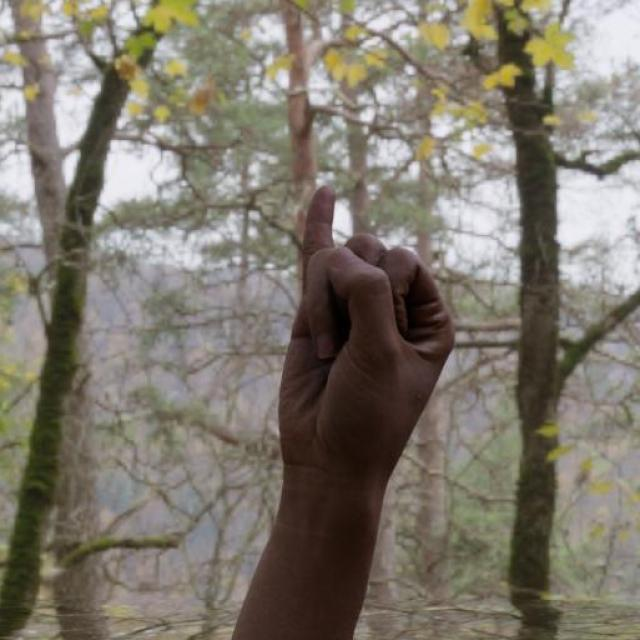I: (274, 180, 460, 466)
